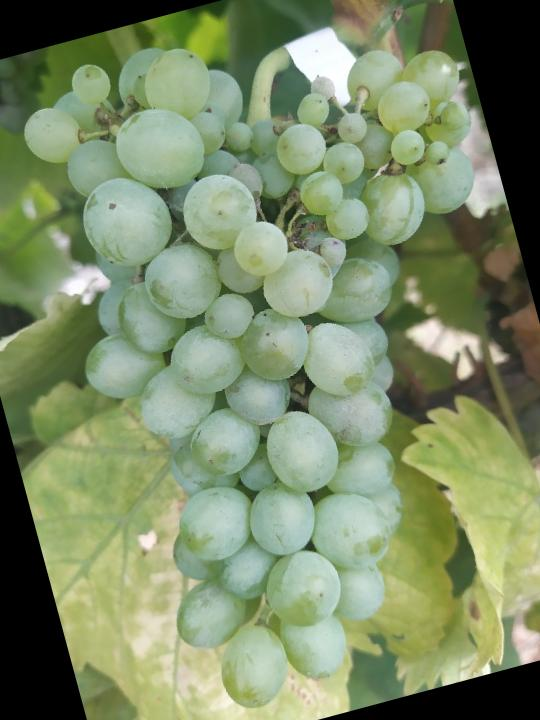grape: (4, 0, 540, 720)
